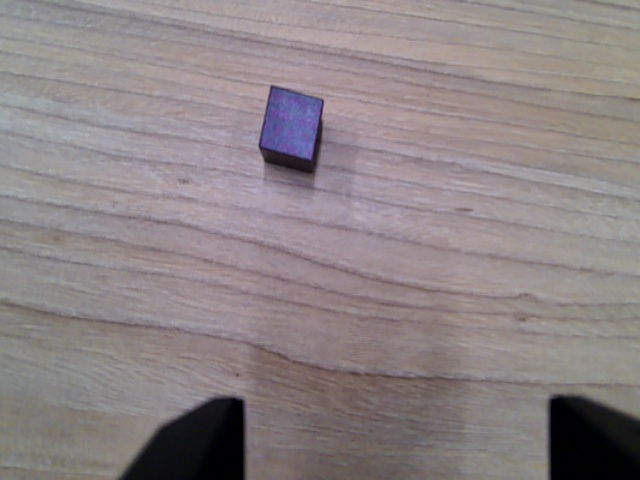brick: (253, 86, 328, 175)
